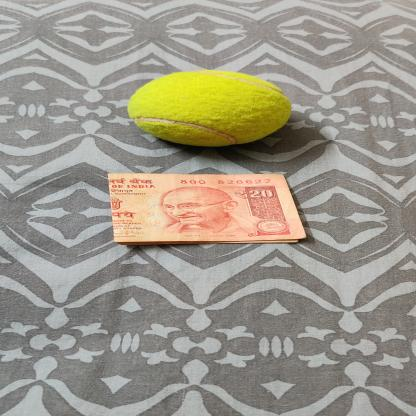Old20Front: (107, 173, 294, 241)
